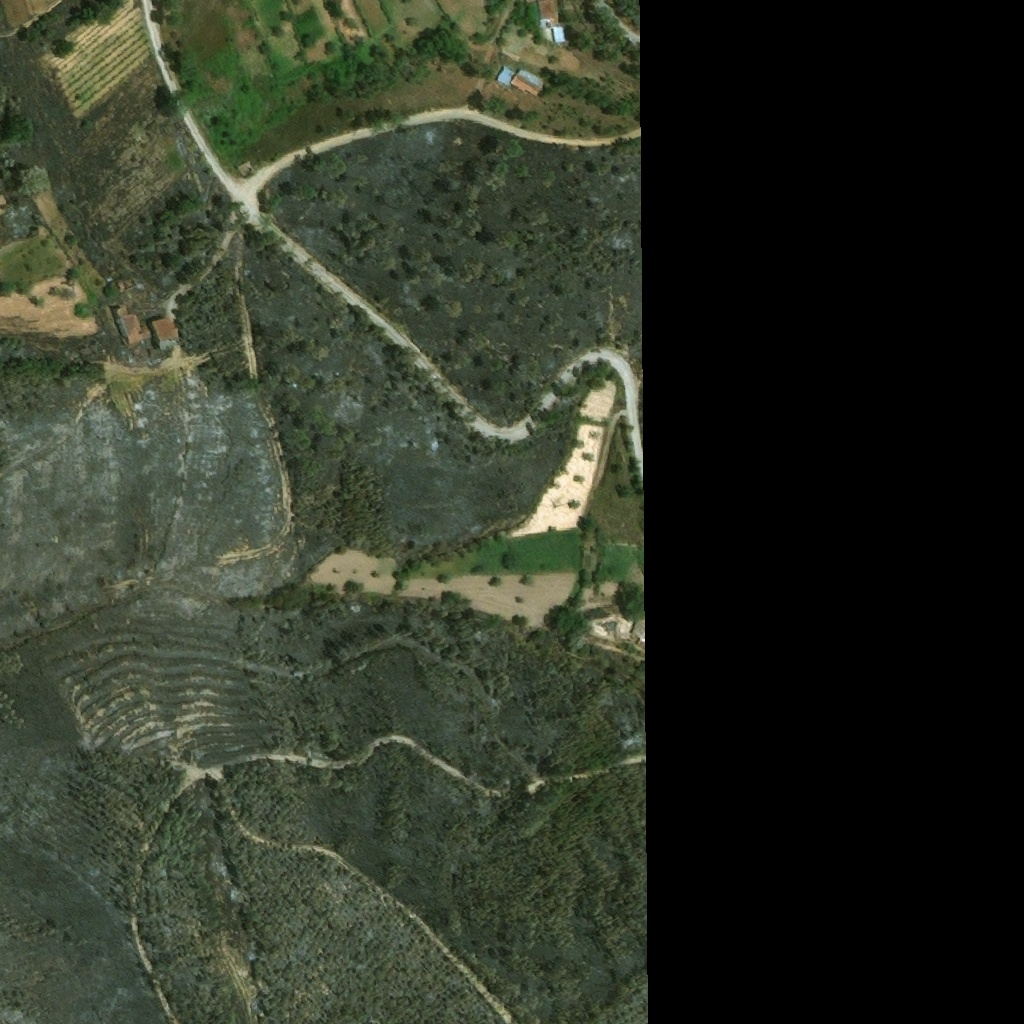0 no-damage: (497, 65, 543, 96), (538, 0, 567, 44), (116, 309, 149, 343), (151, 316, 179, 350), (628, 622, 651, 644), (526, 0, 537, 4)
1 minor-damage: (239, 160, 255, 176), (115, 281, 138, 292)
